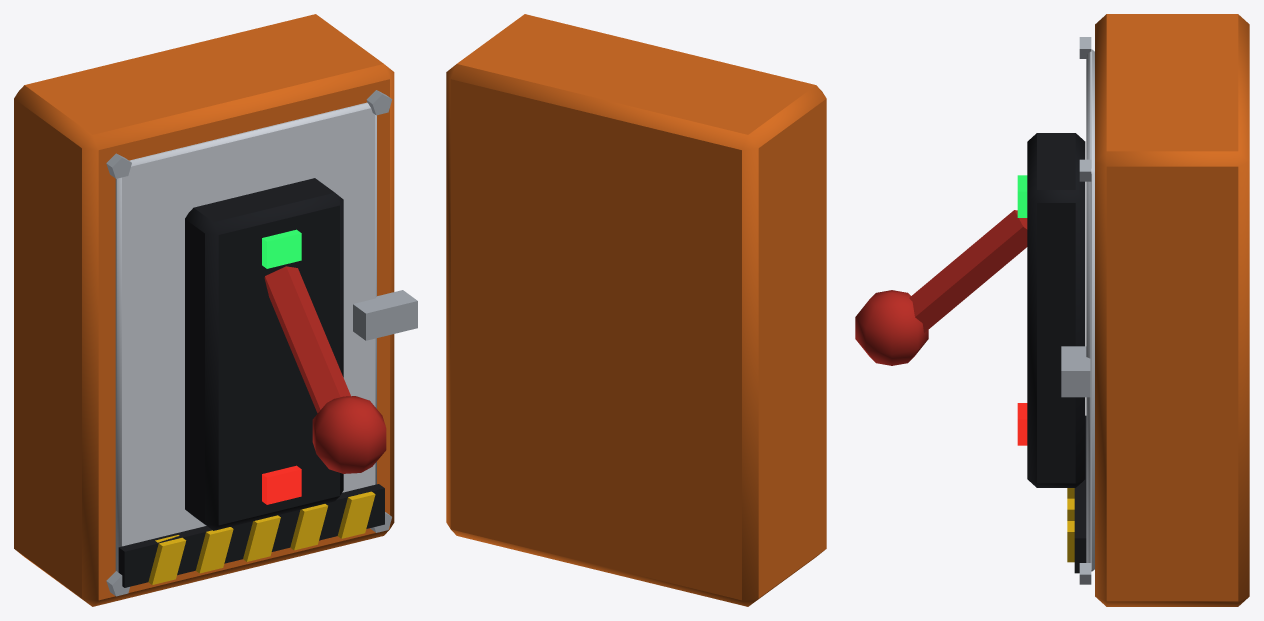
File: junction_disconnect_switch.glb
3 views of the same model, side by side, from view 1: azimuth 30°, elevation 25°; view 2: azimuth 150°, elevation 25°; view 3: azimuth 270°, elevation 25° (orthographic). The views are drawn at different scales.
Visible parts, largest first — view 1: junction_disconnect_switch; view 2: junction_disconnect_switch; view 3: junction_disconnect_switch.
Boxes of the visible parts, left/top/right/bottom form: junction_disconnect_switch: left=14, top=14, right=417, bottom=606; junction_disconnect_switch: left=446, top=14, right=826, bottom=606; junction_disconnect_switch: left=855, top=14, right=1249, bottom=606.
Size of the model in its own units: 0.36 by 0.52 by 0.408.
